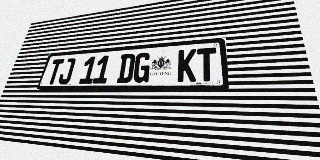1: (92, 55, 111, 84), (79, 56, 98, 84)
D: (116, 53, 136, 83)
G: (132, 52, 151, 83)
J: (57, 58, 76, 84)
K: (177, 49, 196, 82)
T: (197, 47, 217, 82), (45, 59, 64, 84)
